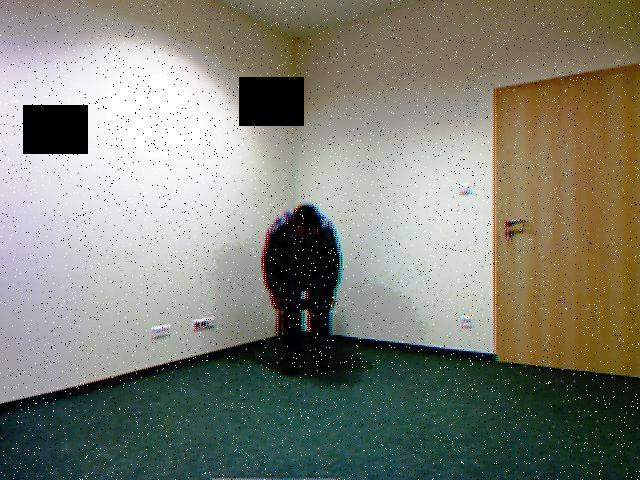bending: (255, 185, 352, 380)
